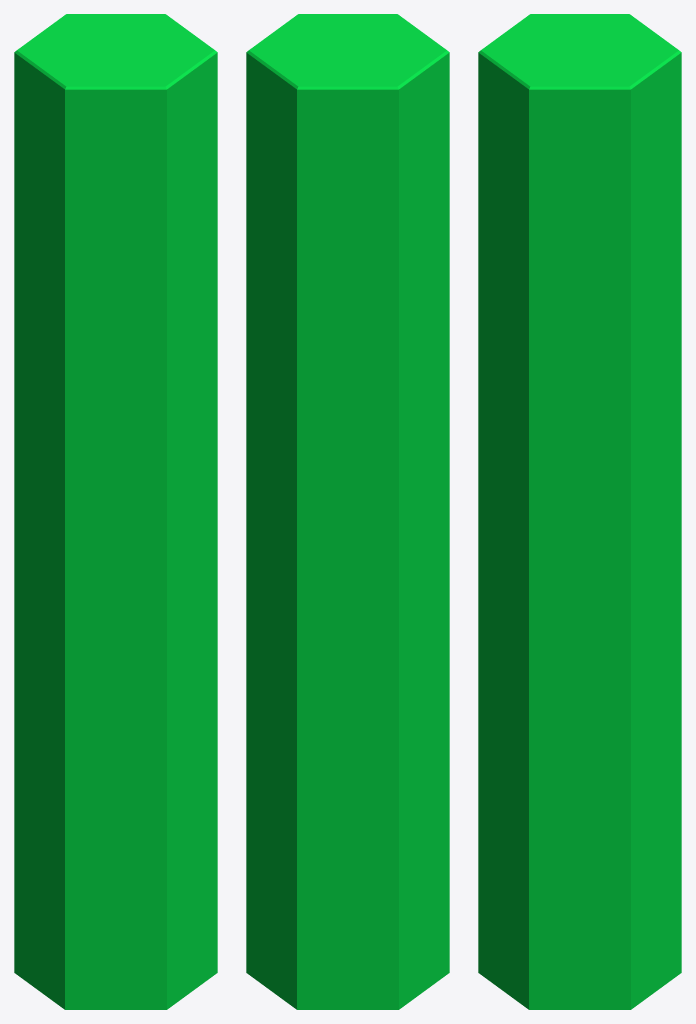
Rendered from hex-grass.gltf.
3 renders of one model, left to right at view 1: azimuth 30°, elevation 25°; view 2: azimuth 150°, elevation 25°; view 3: azimuth 270°, elevation 25°, orthographic.
Parts seen in each view (by area): view 1: Hex; view 2: Hex; view 3: Hex.
Part boxes in pixels (left/top/right/bottom): Hex: left=14, top=14, right=217, bottom=1009; Hex: left=246, top=14, right=449, bottom=1009; Hex: left=478, top=14, right=681, bottom=1009.
Size of the model in its own units: 1.73 by 10 by 2.
